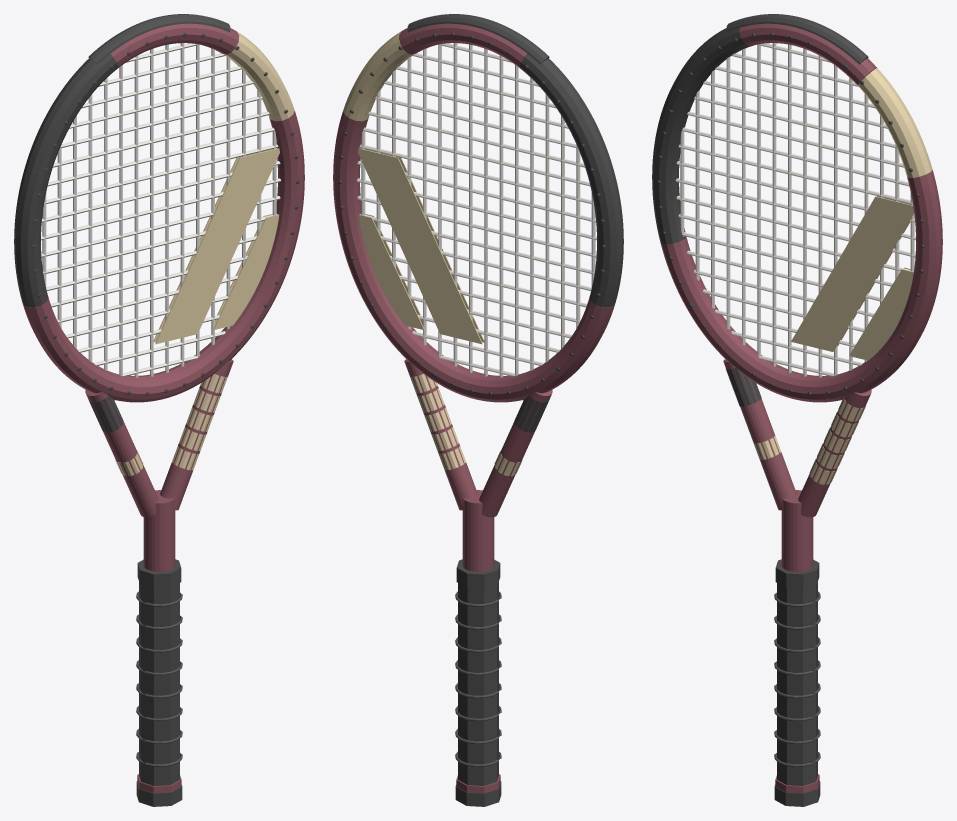
Rendered from wilson-pro-staff-97l-v14.glb.
The picture shows the model from 3 angles, left to right: view 1: azimuth 30°, elevation 25°; view 2: azimuth 150°, elevation 25°; view 3: azimuth 330°, elevation 25°; orthographic projection.
Visible parts, largest first — view 1: strings, frame, stencil, frame_black, handle, frame_white, throat, shaft, wraps, collar, grommets, cap; view 2: strings, frame, stencil, frame_black, handle, frame_white, throat, shaft, wraps, collar, grommets, cap; view 3: strings, frame, stencil, frame_black, handle, frame_white, throat, shaft, wraps, collar, grommets, cap.
Boxes of the visible parts, bbox=[...] form: strings: bbox=[41, 43, 280, 377]; frame: bbox=[23, 23, 304, 402]; stencil: bbox=[153, 148, 279, 344]; frame_black: bbox=[14, 14, 230, 432]; handle: bbox=[139, 582, 179, 785]; frame_white: bbox=[115, 31, 294, 476]; throat: bbox=[85, 359, 233, 517]; shaft: bbox=[143, 490, 175, 571]; wraps: bbox=[136, 591, 182, 766]; collar: bbox=[137, 559, 181, 588]; grommets: bbox=[32, 32, 299, 395]; cap: bbox=[136, 781, 182, 806]; strings: bbox=[357, 43, 596, 377]; frame: bbox=[333, 23, 614, 402]; stencil: bbox=[358, 148, 484, 344]; frame_black: bbox=[407, 14, 623, 432]; handle: bbox=[458, 582, 498, 785]; frame_white: bbox=[343, 31, 522, 476]; throat: bbox=[404, 359, 552, 517]; shaft: bbox=[462, 490, 494, 571]; wraps: bbox=[455, 591, 501, 766]; collar: bbox=[456, 559, 500, 588]; grommets: bbox=[338, 32, 605, 395]; cap: bbox=[455, 781, 501, 806]; strings: bbox=[675, 43, 915, 377]; frame: bbox=[660, 23, 942, 402]; stencil: bbox=[791, 196, 914, 360]; frame_black: bbox=[652, 14, 868, 406]; handle: bbox=[777, 582, 817, 785]; frame_white: bbox=[753, 68, 932, 484]; throat: bbox=[723, 359, 871, 517]; shaft: bbox=[781, 490, 813, 571]; wraps: bbox=[774, 591, 820, 766]; collar: bbox=[775, 559, 819, 588]; grommets: bbox=[657, 32, 924, 395]; cap: bbox=[774, 781, 820, 806].
Bounding box in the file's own units: 0.272 × 0.7055 × 0.039.
